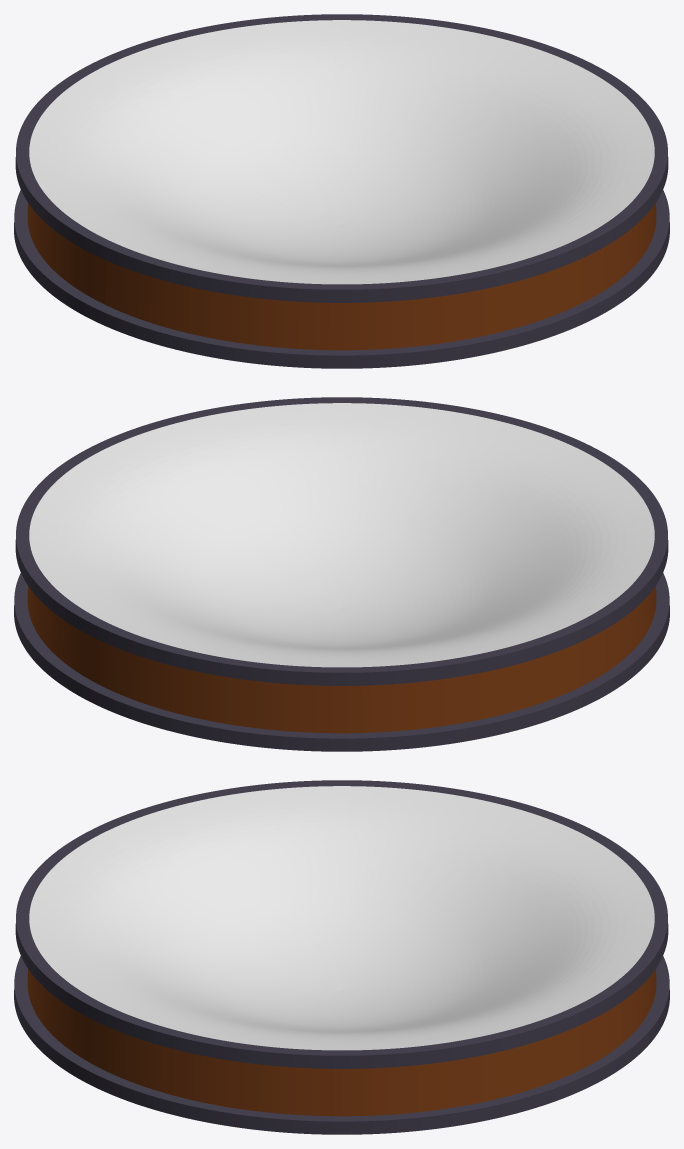
Rendered from druuomm.fbx.
The picture shows the model from 3 angles, top to bottom: view 1: azimuth 30°, elevation 25°; view 2: azimuth 150°, elevation 25°; view 3: azimuth 270°, elevation 25°; orthographic projection.
Visible parts, largest first — view 1: Sphere; view 2: Sphere; view 3: Sphere.
Part boxes in pixels (<box>): Sphere: <box>14,14,669,368</box>; Sphere: <box>14,397,669,751</box>; Sphere: <box>14,780,669,1134</box>.
Bounding box in the file's own units: 386 × 54.76 × 386.
